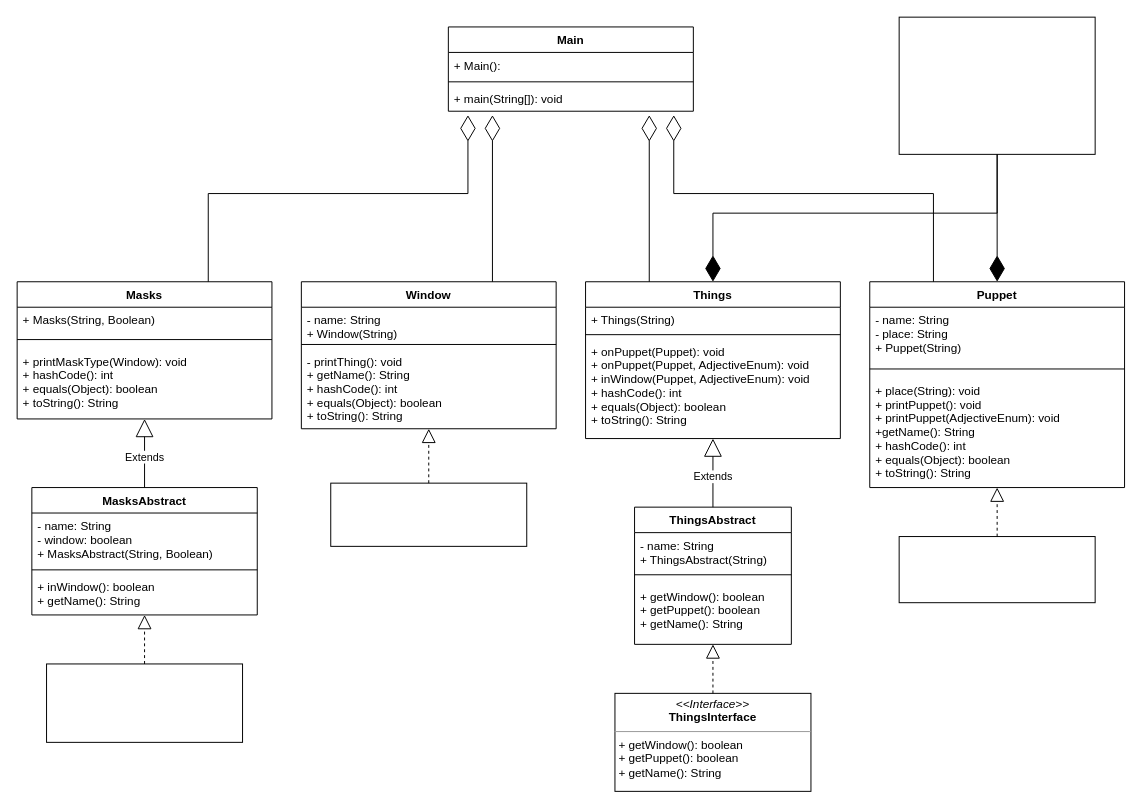
Some shapes in this 1142 by 809 pixel diagram are drawn without their labels. Each missing label, with the centre of its shape:
"<<enumeration>> AdjectiveEnum PLAID CUPRUM BIG MASTERFUL ELECTRIC BLACK" belongs at point (996, 85).
"<<Interface>> Masks Interface + inWindow(): boolean + getName(): String" belongs at point (144, 702).
"<<Interface>> PuppetInterface + getName(): String" belongs at point (996, 569).
"<<Interface>> WindowInterface + getName(): String" belongs at point (428, 514).
